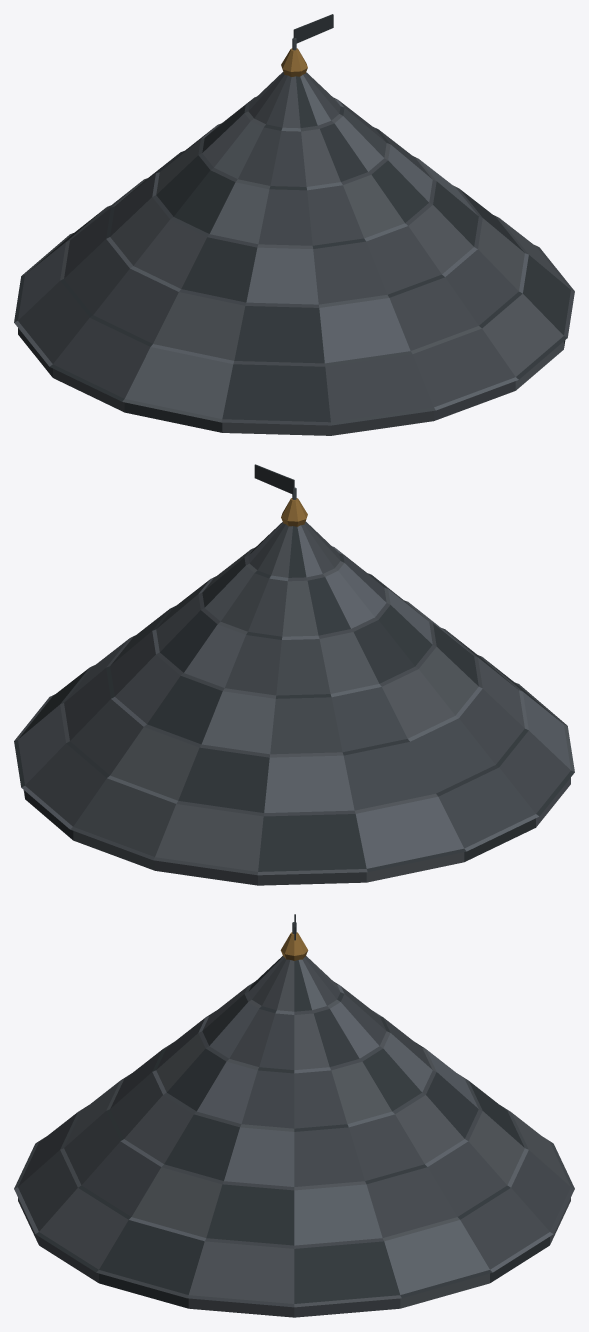
Rendered from mdvl_castle_tower_round_roof_01.glb.
3 views of the same model, one above another, from view 1: azimuth 30°, elevation 25°; view 2: azimuth 150°, elevation 25°; view 3: azimuth 270°, elevation 25° (orthographic).
Parts seen in each view (by area): view 1: mdvl_castle_tower_round_roof_01; view 2: mdvl_castle_tower_round_roof_01; view 3: mdvl_castle_tower_round_roof_01.
Part boxes in pixels (box(x1,y1,x2,y2)): mdvl_castle_tower_round_roof_01: box(14, 14, 574, 435); mdvl_castle_tower_round_roof_01: box(14, 464, 574, 885); mdvl_castle_tower_round_roof_01: box(14, 914, 574, 1317).
Bounding box in the file's own units: 4.26 × 2.45 × 4.26.
1 material, 1 textured.
